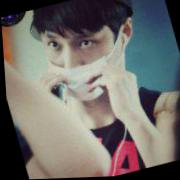WRONG: (37, 12, 130, 110)
